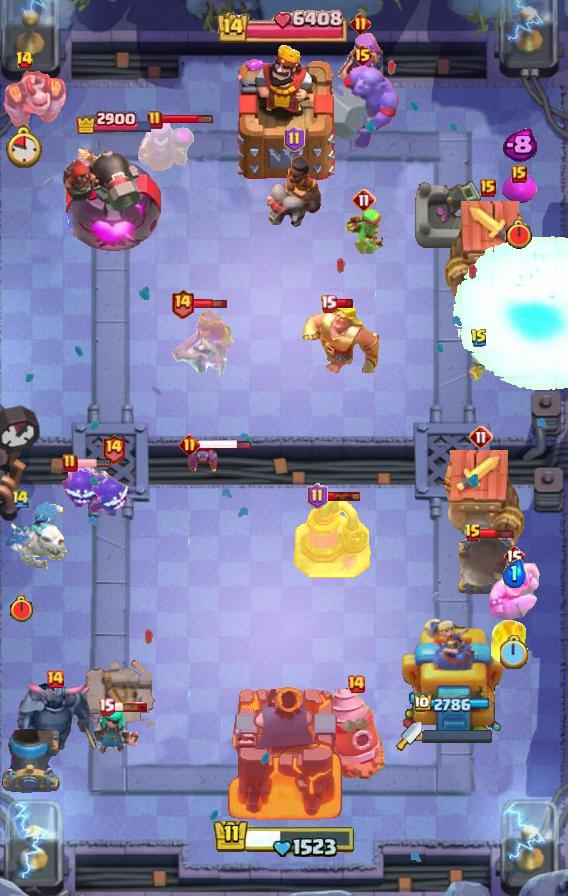archer-queen: (321, 63, 403, 151)
bar: (402, 615, 507, 731)
barbarian-barrel: (186, 445, 222, 477)
barbarian-hut: (161, 308, 235, 376)
clock: (212, 815, 356, 857), (217, 9, 351, 43)
electro-spirit: (502, 128, 538, 163), (502, 560, 526, 588)
elite-barbarian: (265, 153, 323, 229)
elixir: (6, 124, 43, 167), (500, 635, 529, 669), (505, 219, 533, 250), (9, 595, 34, 623)
elixir-golem-small: (0, 64, 68, 130)
emote: (196, 438, 251, 451), (162, 115, 215, 126), (192, 298, 227, 311), (481, 527, 516, 540), (112, 701, 148, 713), (327, 490, 362, 501), (76, 458, 112, 468), (335, 299, 354, 310)
giant-snowball: (343, 208, 385, 254)
goblin-giant: (487, 563, 541, 621)
goblin-hut: (301, 301, 379, 373)
golemite: (13, 682, 97, 756)
heal-spirit: (467, 351, 491, 381)
king-tower: (223, 680, 345, 826), (230, 43, 338, 181)
king-tower-bar: (422, 729, 494, 743)
magic-archer: (323, 684, 389, 782)
mega-knight: (448, 233, 568, 394)
miner: (501, 175, 537, 205)
mini-pekka: (0, 501, 68, 575)
musketeer: (455, 532, 519, 598), (0, 729, 60, 793)
pekka: (294, 498, 372, 580)
rascal-girl: (333, 31, 387, 103), (135, 119, 195, 175)
selected: (74, 110, 154, 135), (414, 694, 492, 714)
sparky: (445, 200, 531, 298), (438, 449, 524, 547)
spear-goblin: (89, 469, 137, 517), (59, 461, 107, 507)
text: (170, 289, 195, 320), (101, 433, 126, 463), (352, 188, 376, 212), (469, 425, 493, 449), (351, 43, 374, 67), (284, 126, 305, 152), (307, 483, 328, 509), (503, 544, 525, 568), (179, 434, 201, 455), (350, 14, 371, 35), (11, 488, 31, 509), (45, 669, 65, 689), (346, 674, 366, 694), (15, 50, 34, 70), (470, 328, 488, 348), (464, 523, 482, 543), (320, 295, 337, 314), (98, 696, 115, 715), (147, 110, 163, 130), (62, 453, 78, 473), (511, 165, 527, 183), (480, 179, 496, 197)
tower-bar: (63, 136, 165, 256)
valkyrie: (489, 616, 529, 664)
witch: (92, 705, 140, 755)
